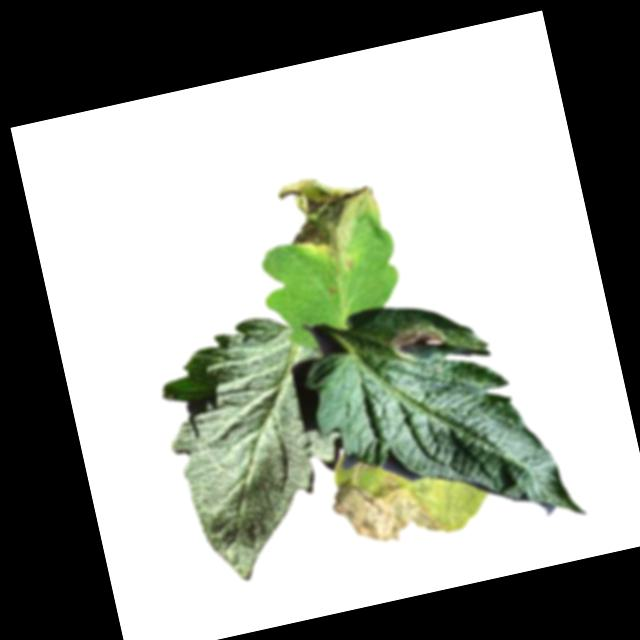Late_blight: (275, 163, 389, 269), (327, 463, 445, 557), (389, 323, 445, 357)
